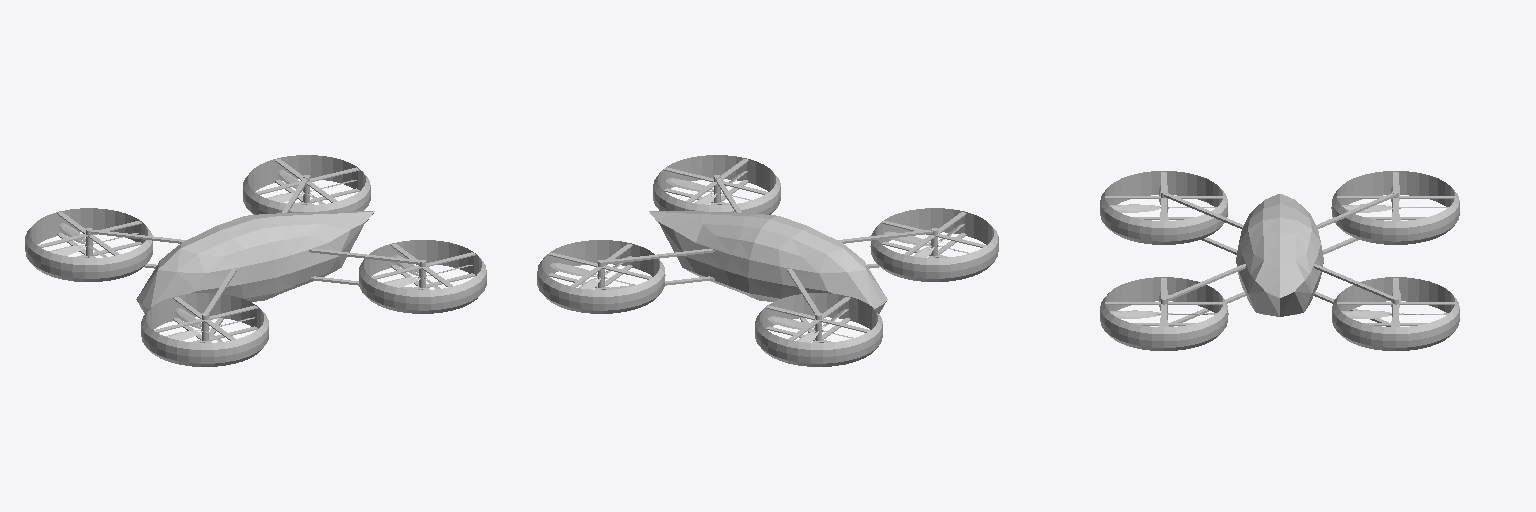
The model's file is dolone.obj.
3 renders of one model, left to right at view 1: azimuth 30°, elevation 25°; view 2: azimuth 150°, elevation 25°; view 3: azimuth 270°, elevation 25°, orthographic.
Visible parts, largest first — view 1: 球.016, 球.002, 球.007, 球.024, 球.037; view 2: 球.016, 球.007, 球.037, 球.024, 球.002; view 3: 球.016.
Part boxes in pixels (x1,y1,x2,y2): 球.016: (25,155,486,366); 球.002: (165,308,254,341); 球.007: (49,223,138,256); 球.024: (383,255,472,288); 球.037: (267,170,356,203); 球.016: (537,155,998,366); 球.007: (768,309,852,342); 球.037: (550,256,634,289); 球.024: (666,171,750,204); 球.002: (884,224,968,257); 球.016: (1100,171,1459,350).
Bounding box in the file's own units: 17.6 × 3.81 × 16.7.